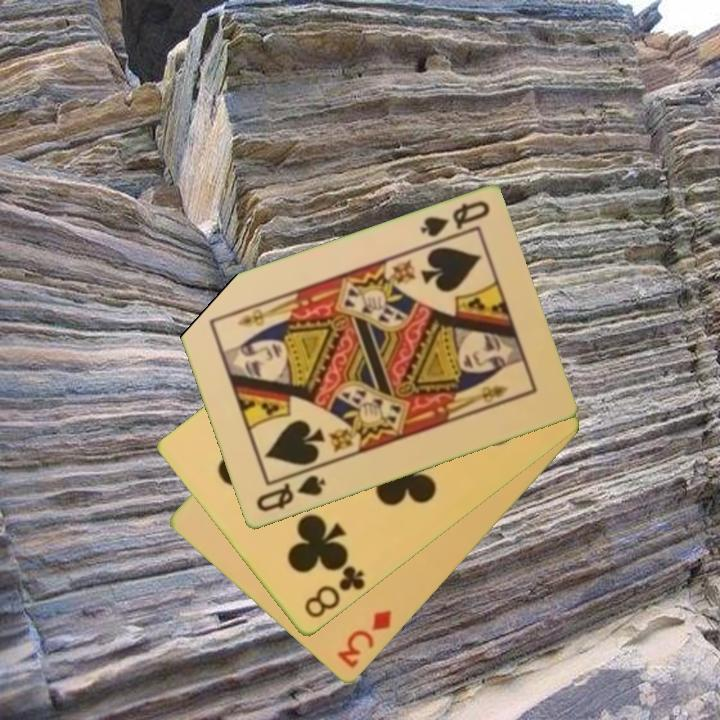3d: (333, 606, 395, 672)
8c: (300, 562, 369, 622)
Qs: (416, 197, 493, 249), (252, 472, 329, 516)
